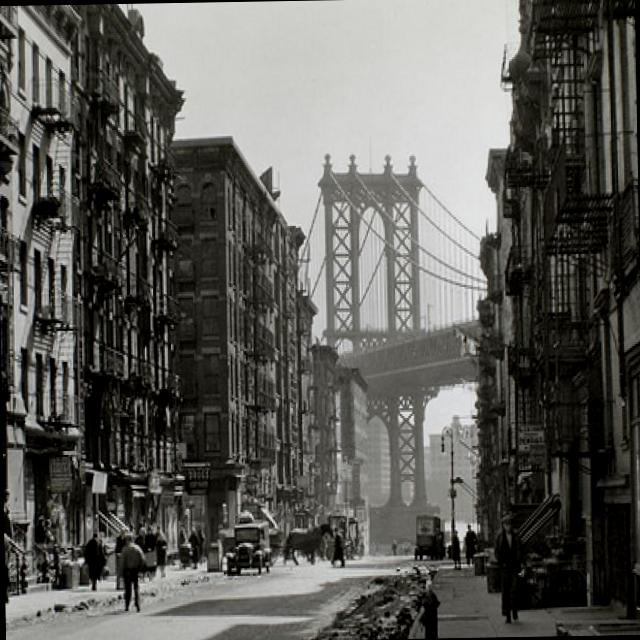Vehicle: (224, 518, 273, 575), (413, 514, 447, 562)
